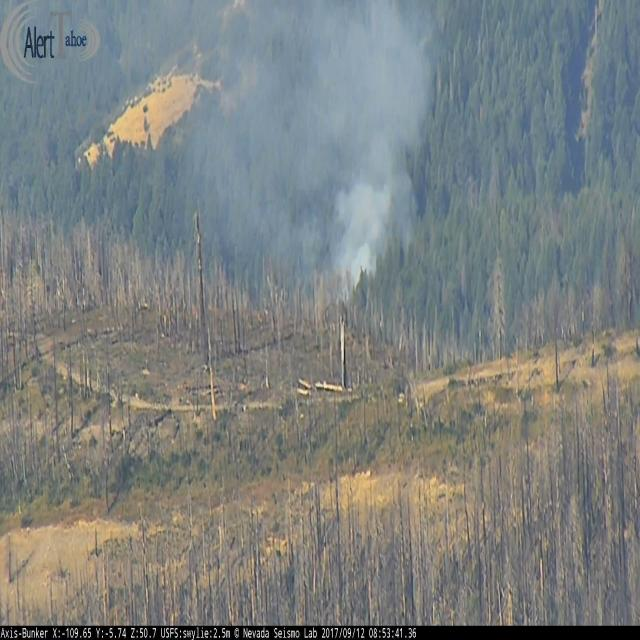smoke: (208, 0, 431, 302)
